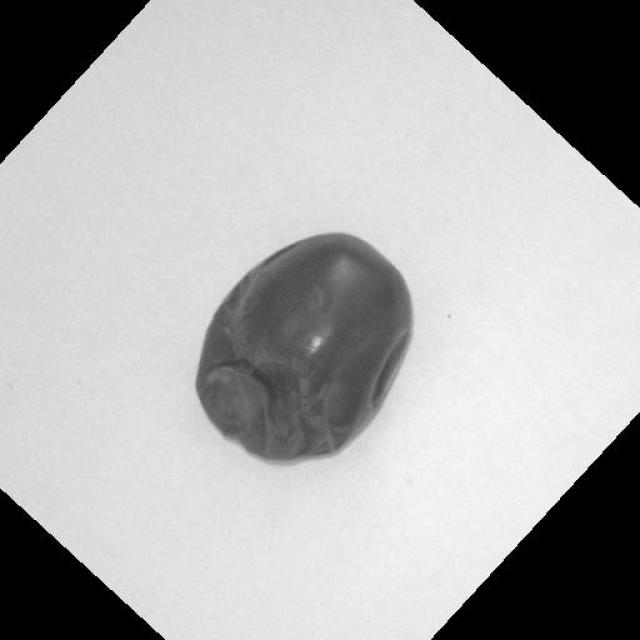Stale_tomato: (183, 233, 424, 480)
